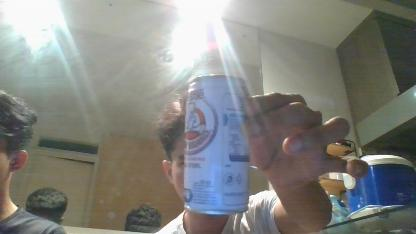Can: (183, 72, 252, 216)
